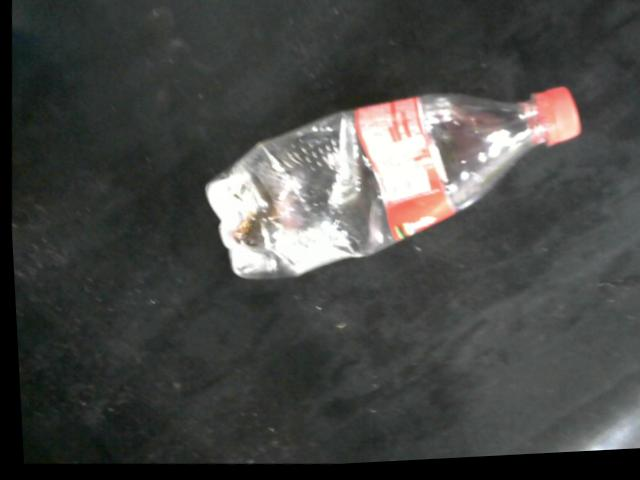bottle: (203, 92, 581, 284)
